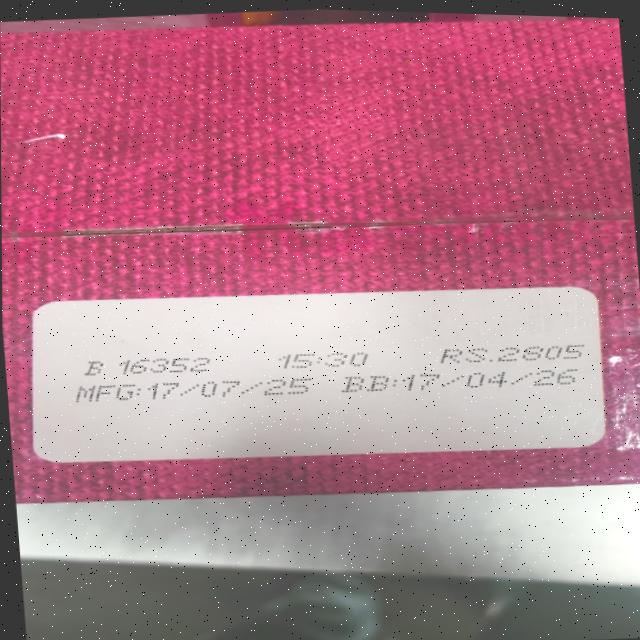BB: (337, 358, 580, 401)
Batch: (82, 351, 217, 380)
MFG: (74, 369, 315, 412)
RS: (436, 338, 587, 369)
TimeStamp: (278, 348, 372, 372)
